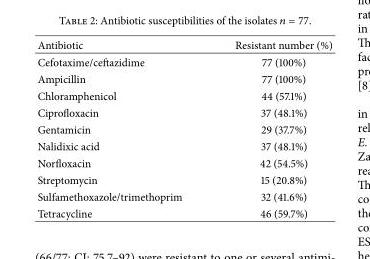table: (36, 36, 331, 220)
table column: (36, 36, 207, 220), (207, 36, 331, 220)
table column header: (36, 36, 331, 53)
table row: (36, 36, 331, 53), (36, 53, 331, 70), (36, 86, 331, 103), (36, 103, 331, 120), (36, 120, 331, 137), (36, 137, 331, 154), (36, 154, 331, 171), (36, 187, 331, 204), (36, 70, 331, 86), (36, 171, 331, 187), (36, 204, 331, 220)
